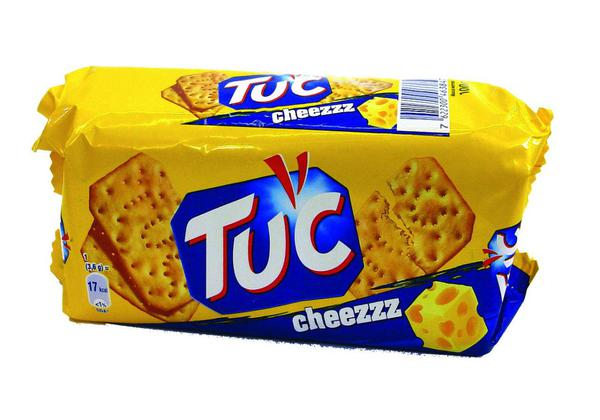crackers tuc: (68, 63, 523, 349)
